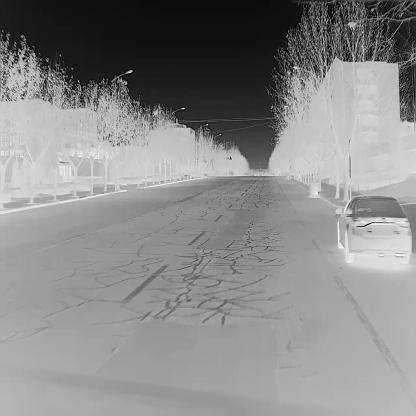car: (335, 194, 412, 262), (286, 171, 290, 180)
